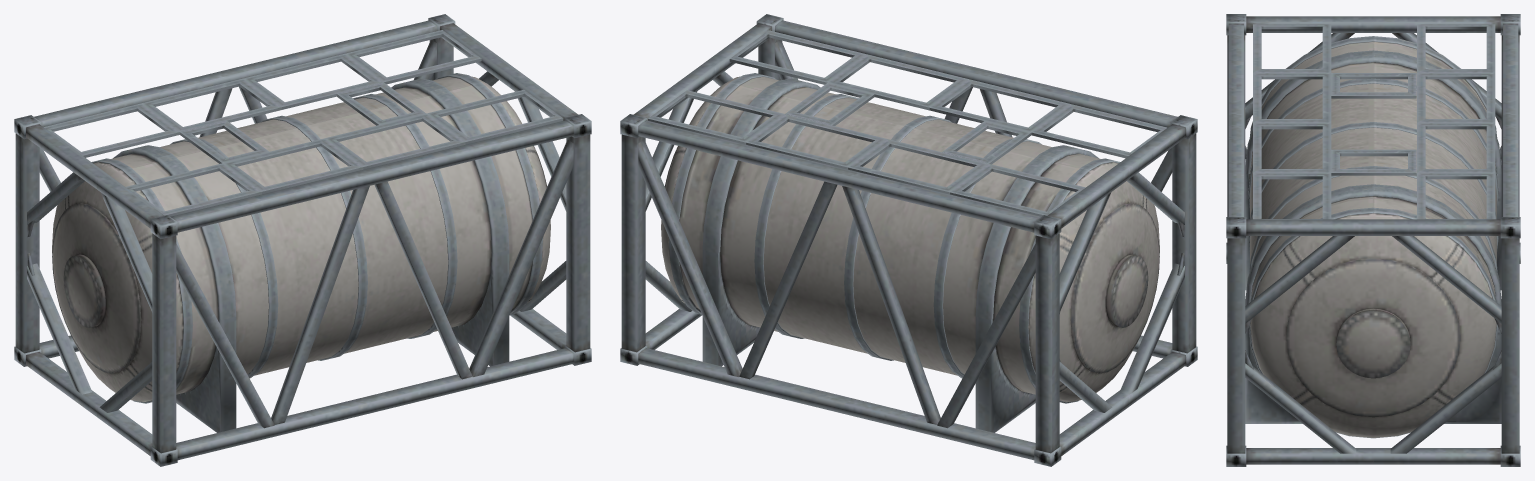
The model's file is sm23_034_tank.fbx.
The picture shows the model from 3 angles, left to right: view 1: azimuth 30°, elevation 25°; view 2: azimuth 150°, elevation 25°; view 3: azimuth 270°, elevation 25°; orthographic projection.
Visible parts, largest first — view 1: LOD_1_Group_0_Sub_1__sm23_034_Tank_A_Mat; view 2: LOD_1_Group_0_Sub_1__sm23_034_Tank_A_Mat; view 3: LOD_1_Group_0_Sub_1__sm23_034_Tank_A_Mat.
Boxes of the visible parts, left/top/right/bottom form: LOD_1_Group_0_Sub_1__sm23_034_Tank_A_Mat: left=14, top=14, right=591, bottom=466; LOD_1_Group_0_Sub_1__sm23_034_Tank_A_Mat: left=620, top=14, right=1197, bottom=466; LOD_1_Group_0_Sub_1__sm23_034_Tank_A_Mat: left=1226, top=14, right=1520, bottom=466.
Bounding box in the file's own units: 3.08 × 1.62 × 1.78.
